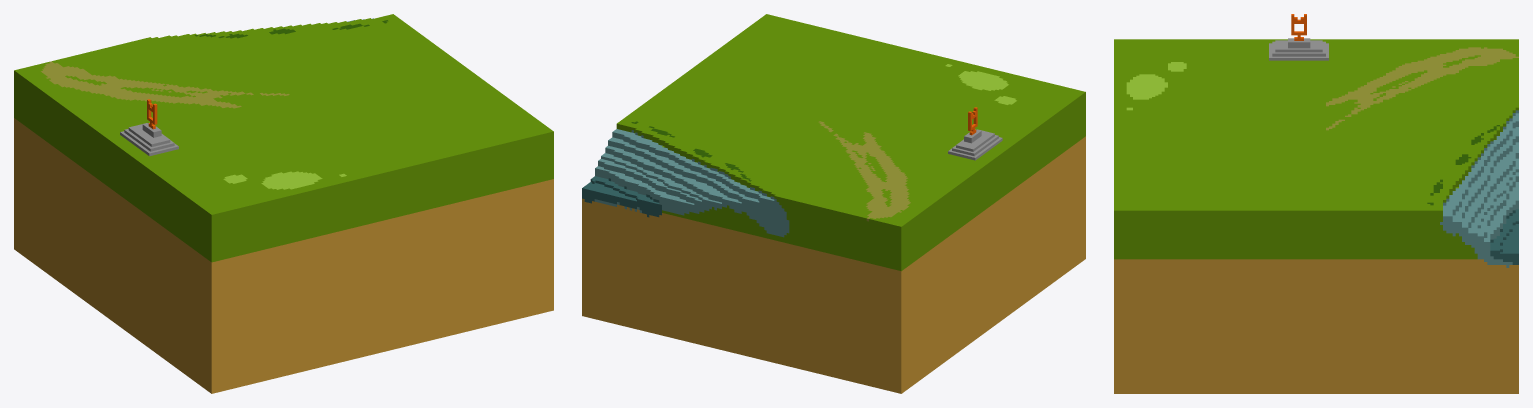
3 renders of one model, left to right at view 1: azimuth 30°, elevation 25°; view 2: azimuth 150°, elevation 25°; view 3: azimuth 270°, elevation 25°, orthographic. The views are drawn at different scales.
Visible parts, largest first — view 1: 1I; view 2: 1I; view 3: 1I.
Boxes of the visible parts, <box> form: 1I: <box>14,14,553,393</box>; 1I: <box>582,14,1085,393</box>; 1I: <box>1114,14,1518,393</box>.
Bounding box in the file's own units: 12.8 × 7.8 × 12.8.
1 material, 1 textured.
